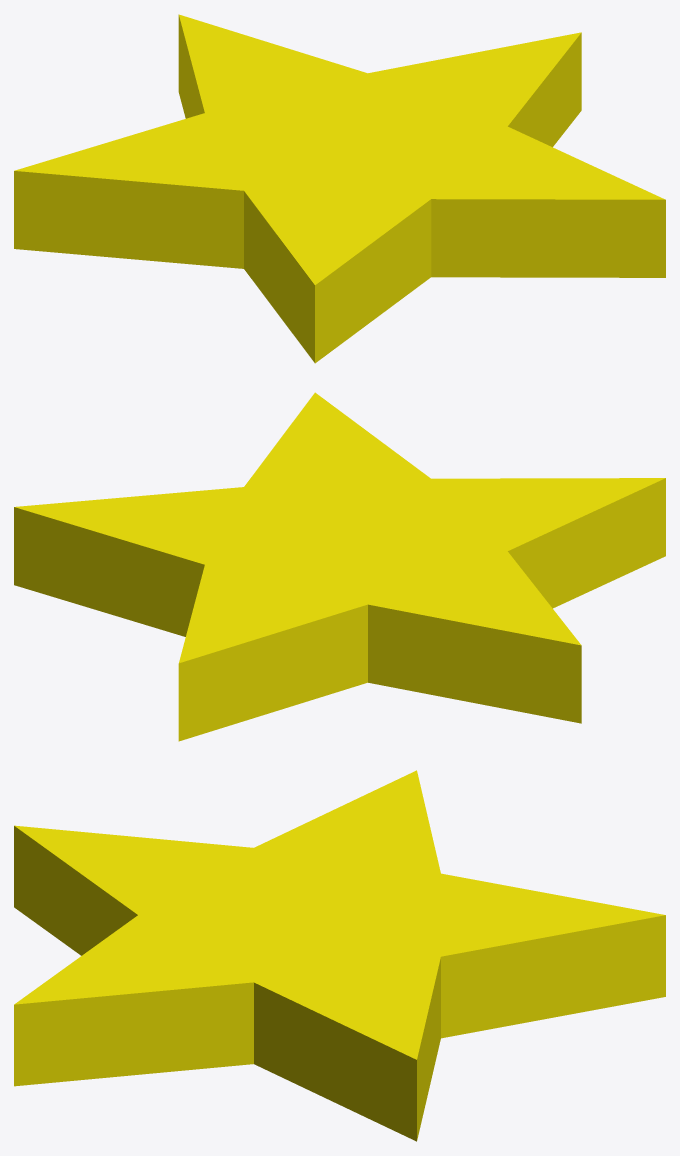
Rendered from Estrella.fbx.
3 renders of one model, top to bottom at view 1: azimuth 30°, elevation 25°; view 2: azimuth 150°, elevation 25°; view 3: azimuth 270°, elevation 25°, orthographic. The views are drawn at different scales.
Visible parts, largest first — view 1: Circle; view 2: Circle; view 3: Circle.
Boxes of the visible parts, x1,y1,x2,y2 form: Circle: (14,14,665,363); Circle: (14,392,665,741); Circle: (14,770,665,1141).
Bounding box in the file's own units: 190 × 25.02 × 181.
Materials: 1 (1 with a texture image).
